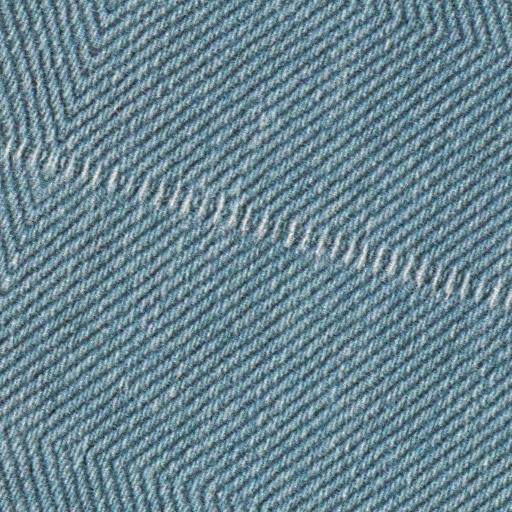slub: (2, 125, 512, 325)
